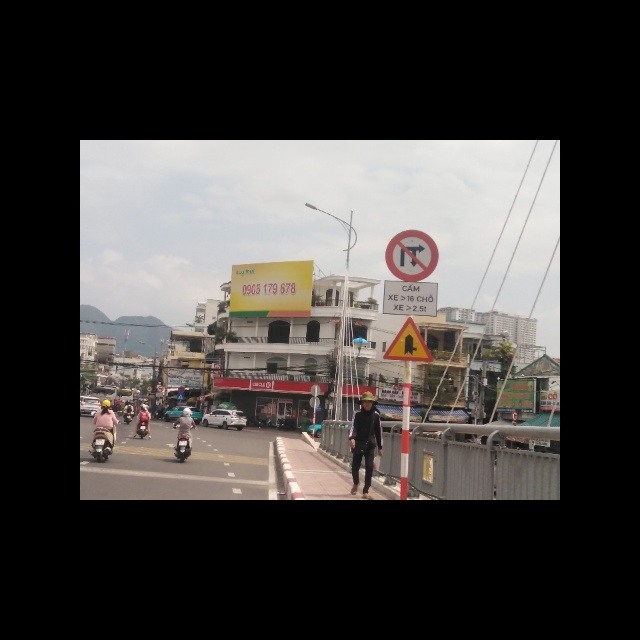Cấm quay đầu và rẽ phải: (385, 228, 439, 280)
Giao nhau với đường không ưu tiên: (381, 318, 433, 363)
